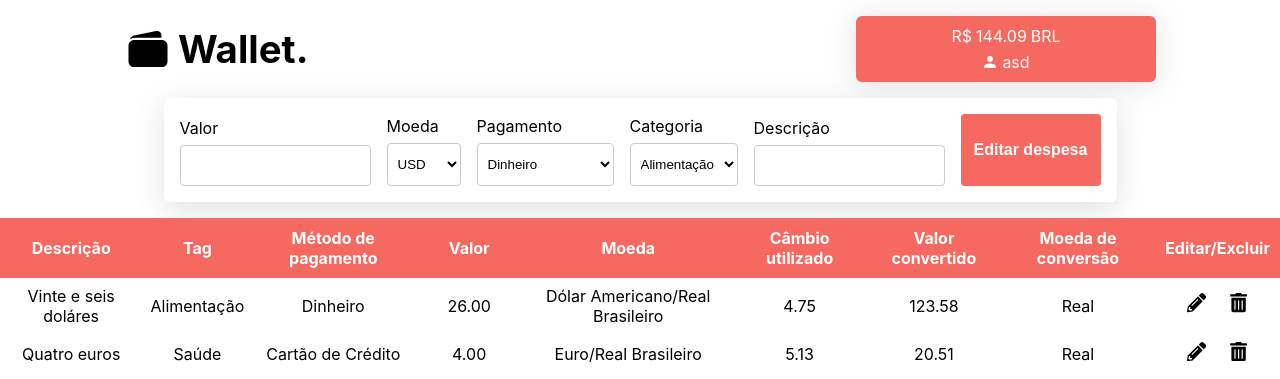
Test: Wallet page tests › Should be able to edit an expense when "Editar" button is clicked
Click the 1st button with test id "edit-btn".
click(1196, 306)  # box [1187,294,1206,318]
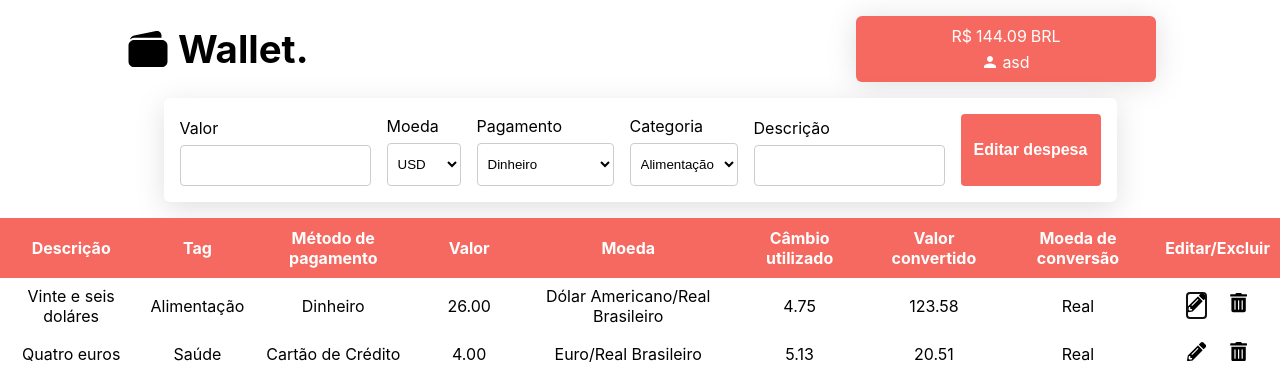
Check: the button "Editar despesa" is shown, box [960,114,1100,186]
Type "21" into the number field with test id "value-input".
click(275, 165); type("21")  # box [180,145,370,186]
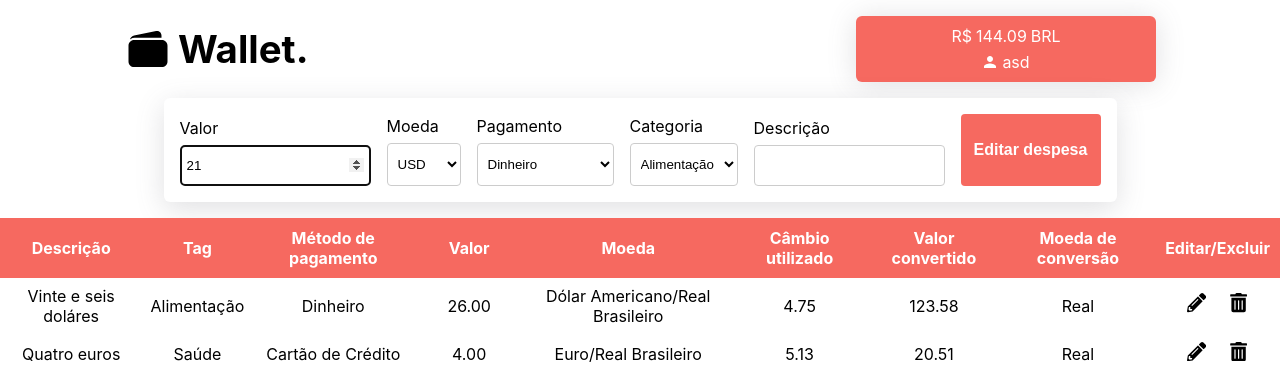
Type "Vinte e um doláres" into the field with test id "description-input".
click(849, 165); type("Vinte e um doláres")  # box [754,145,944,186]
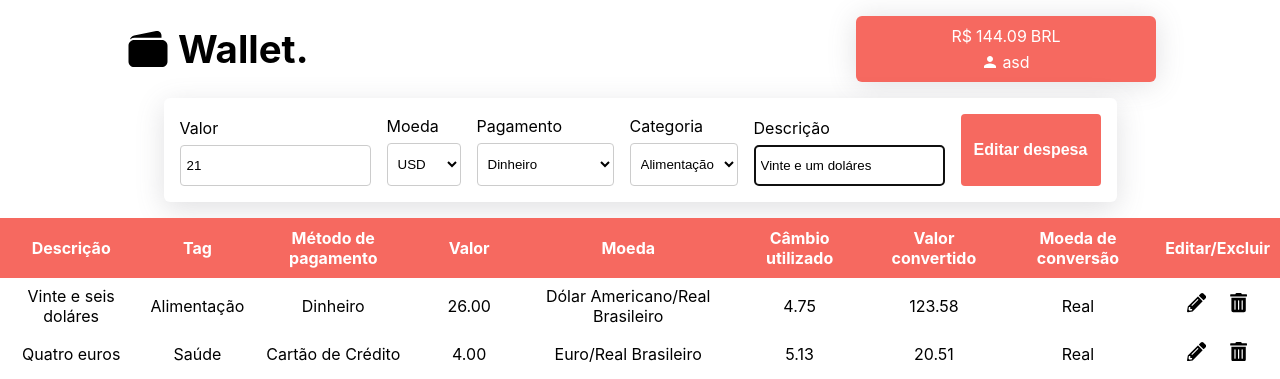
Click the button "Editar despesa".
click(1030, 150)  # box [960,114,1100,186]
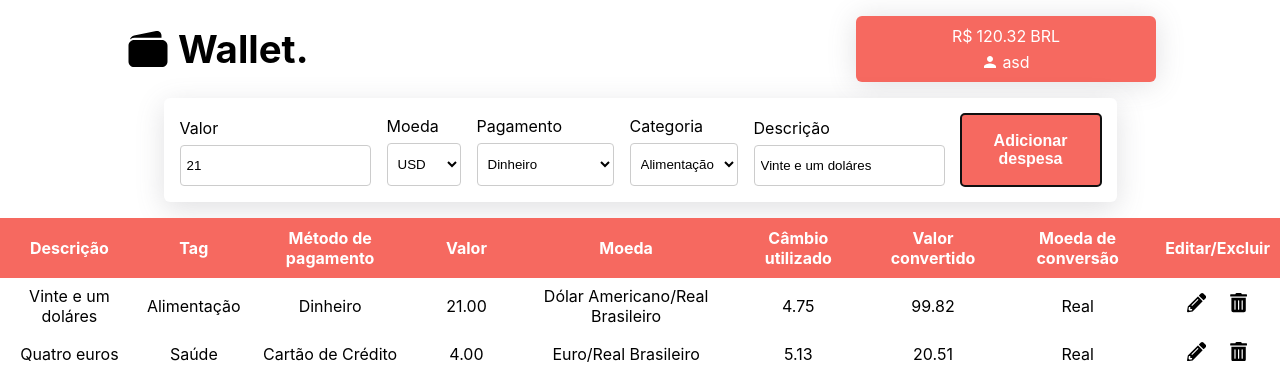
Check: the button named "editar despesa" no longer shows "Editar despesa", box [960,114,1100,186]
Check: the cell "21.00" is shown, box [412,278,522,334]
Check: the cell "Vinte e um doláres" is shown, box [0,278,139,334]
